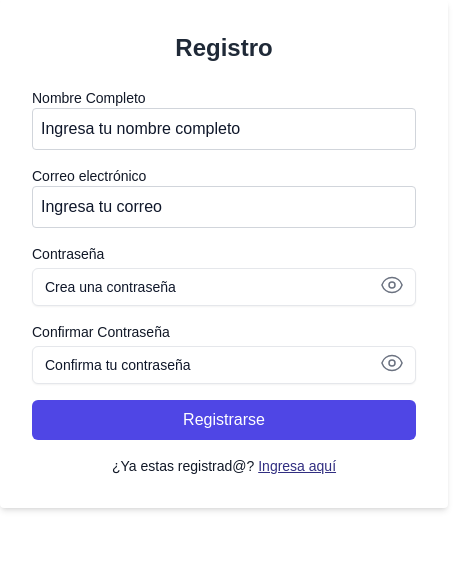
RegisterForm › shows error message if registration fails
This screenshot has width=466, height=569.
Type "Test User" into the field with test id "fullName".
click(224, 129); type("Test User")  # box [32,108,416,150]
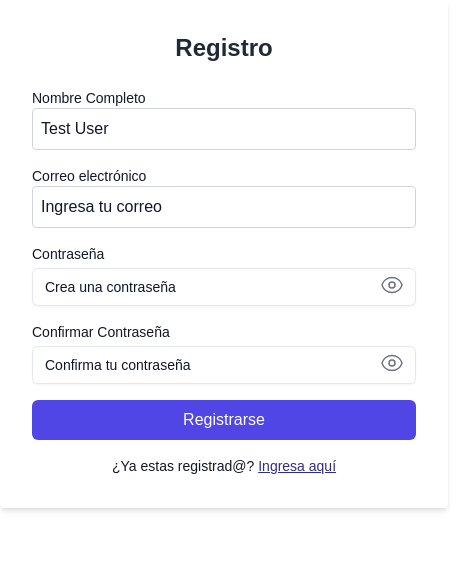
Type "test@example.com" into the field with test id "email".
click(224, 207); type("test@example.com")  # box [32,186,416,228]
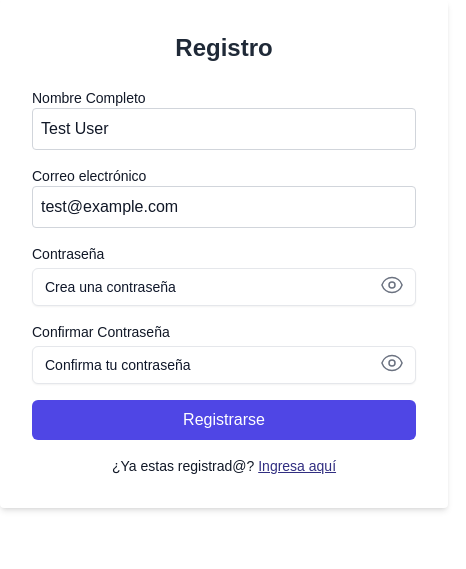
Type "Password123!" into the password field with test id "password".
click(224, 287); type("Password123!")  # box [32,268,416,306]
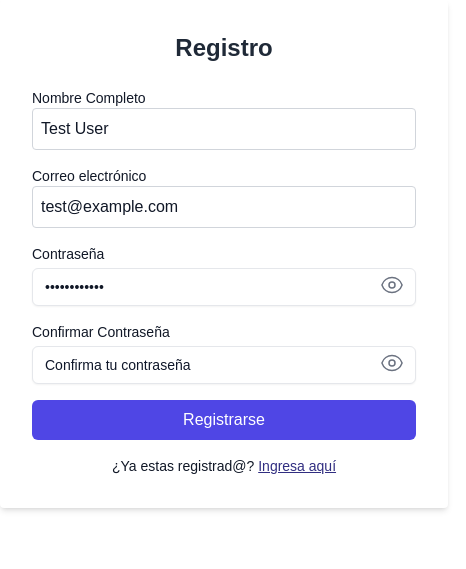
Type "Password123!" into the password field with test id "repeatPassword".
click(224, 365); type("Password123!")  # box [32,346,416,384]
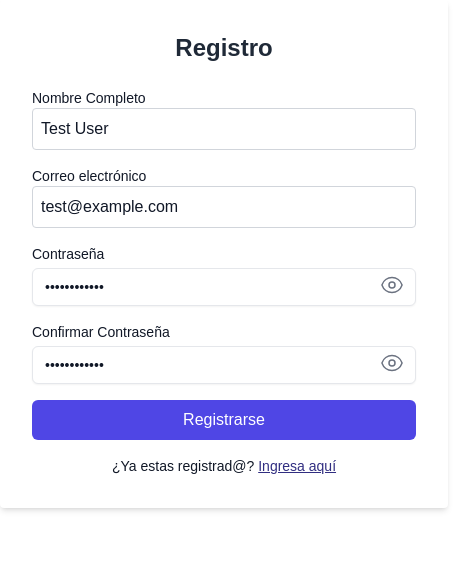
Click the button "Registrarse".
click(224, 420)  # box [32,400,416,440]
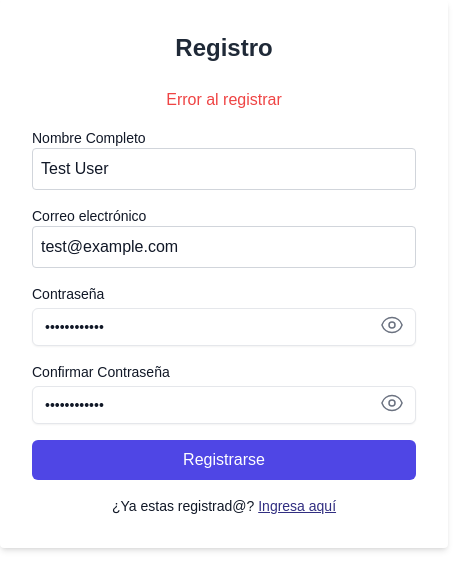
Now the text "Error al registrar" is shown, box [166,91,282,108]
